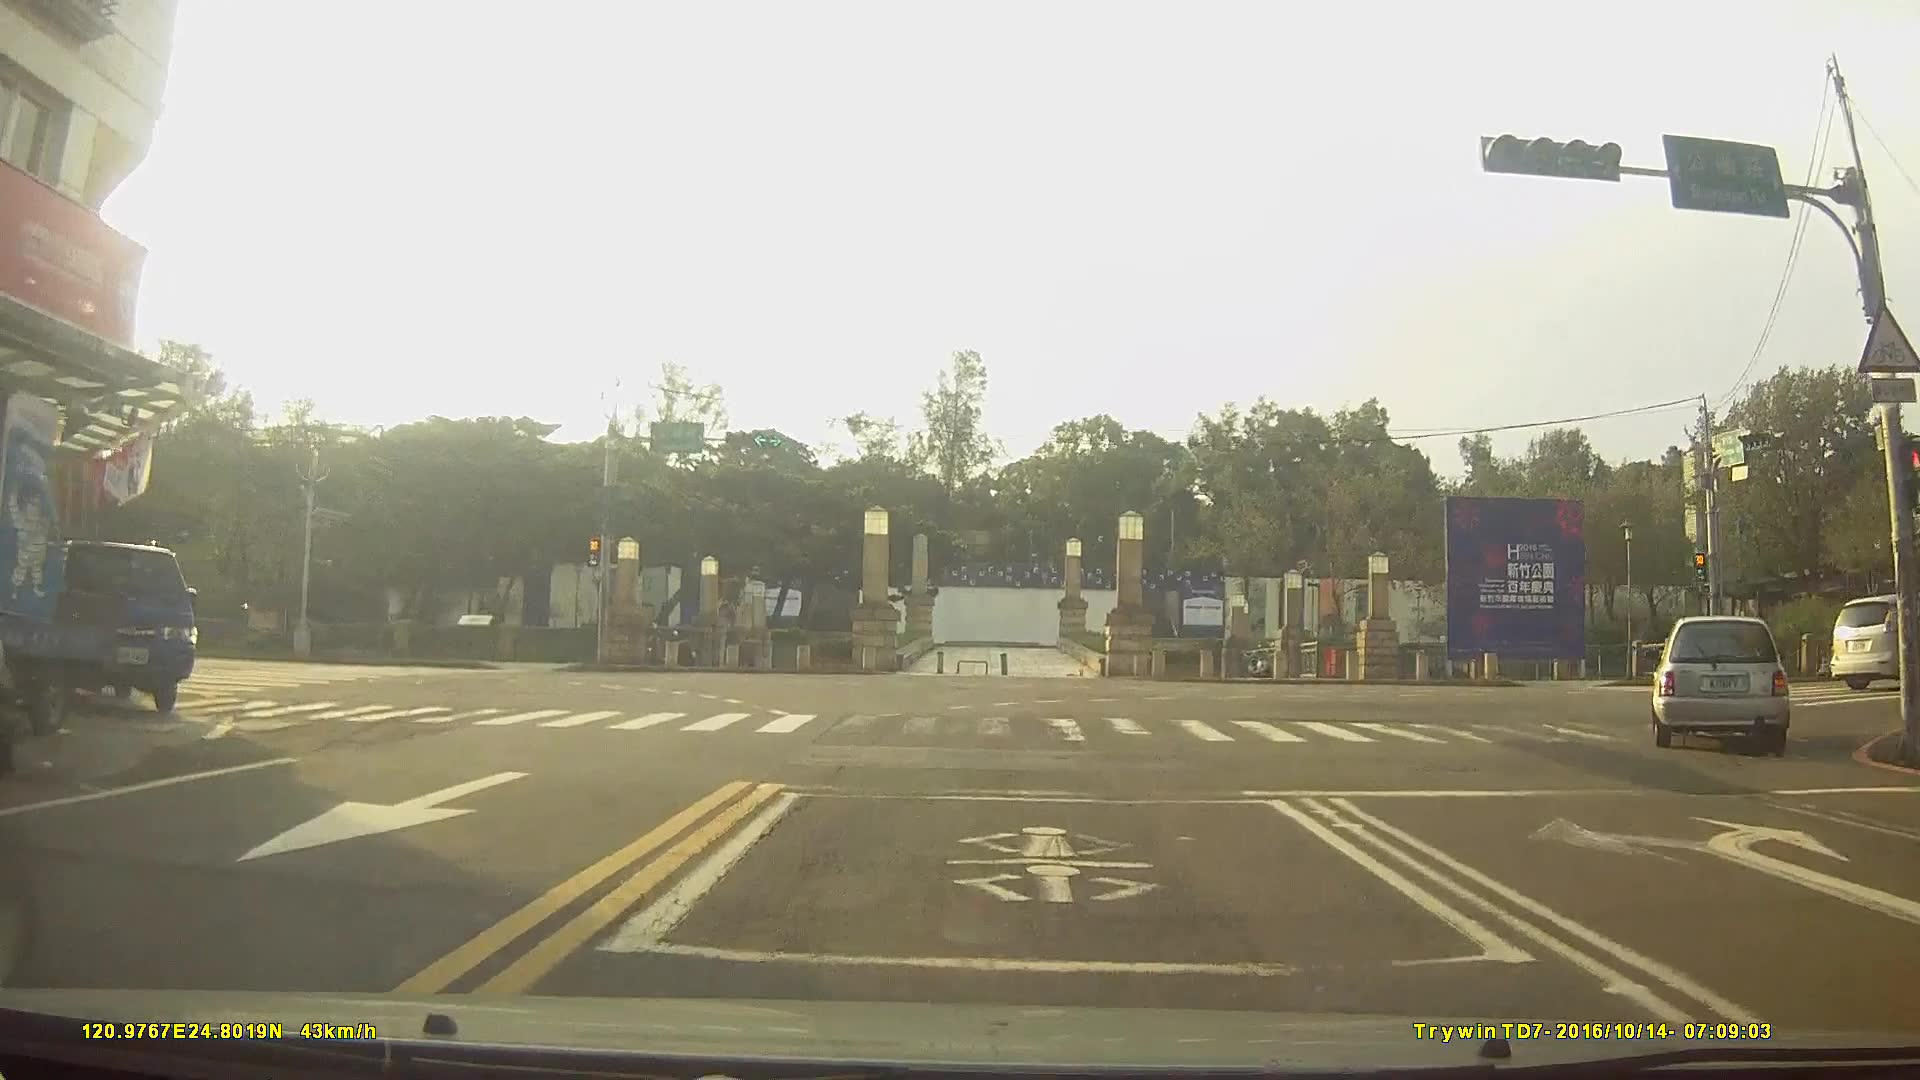vehicle: (50, 535, 195, 716), (1648, 613, 1791, 746), (1828, 591, 1920, 688)
